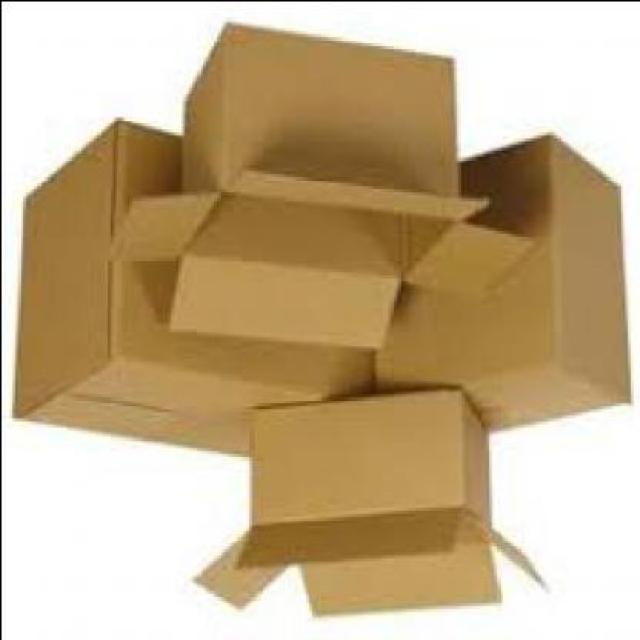CARDBOARD: (104, 27, 525, 351), (9, 119, 373, 458), (185, 390, 544, 616), (370, 136, 627, 435)
